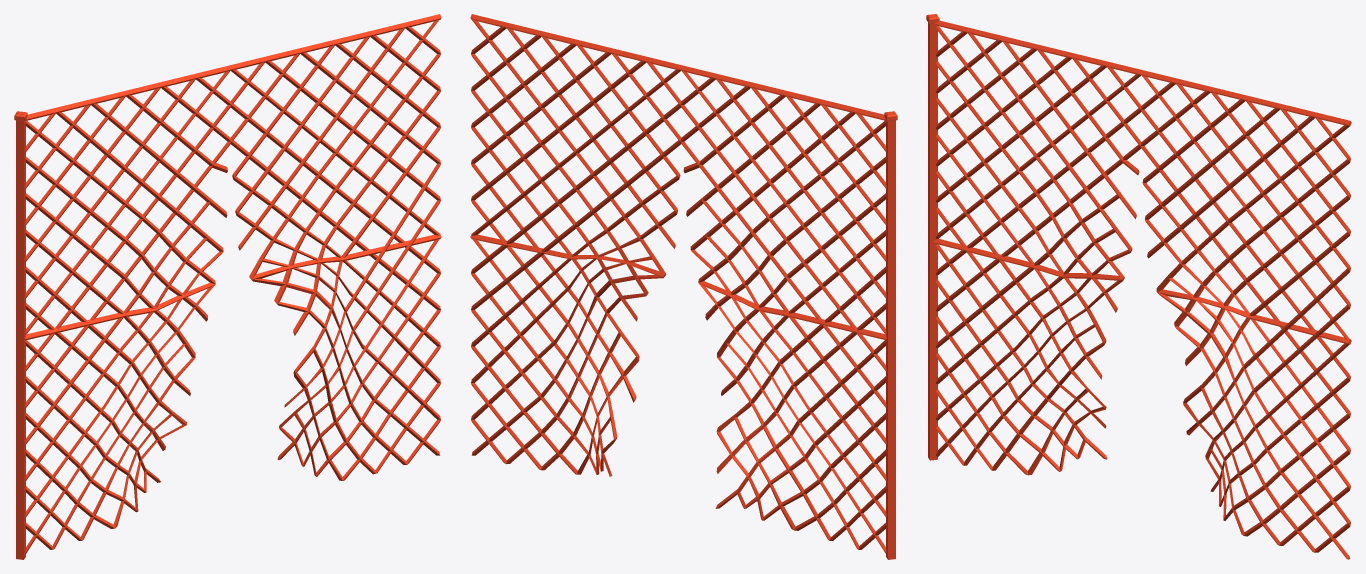
Rendered from SM_Fence_Chainlink_Broken_Tall_4m_City.fbx.
3 renders of one model, left to right at view 1: azimuth 30°, elevation 25°; view 2: azimuth 150°, elevation 25°; view 3: azimuth 330°, elevation 25°, orthographic.
Visible parts, largest first — view 1: SM_Fence_Chainlink_Broken_Tall_4m_City; view 2: SM_Fence_Chainlink_Broken_Tall_4m_City; view 3: SM_Fence_Chainlink_Broken_Tall_4m_City.
Part boxes in pixels (box(x1,y1,x2,y2)): SM_Fence_Chainlink_Broken_Tall_4m_City: box(14, 14, 441, 559); SM_Fence_Chainlink_Broken_Tall_4m_City: box(470, 14, 897, 559); SM_Fence_Chainlink_Broken_Tall_4m_City: box(926, 14, 1351, 559).
Bounding box in the file's own units: 4.06 × 4.05 × 0.5107.
